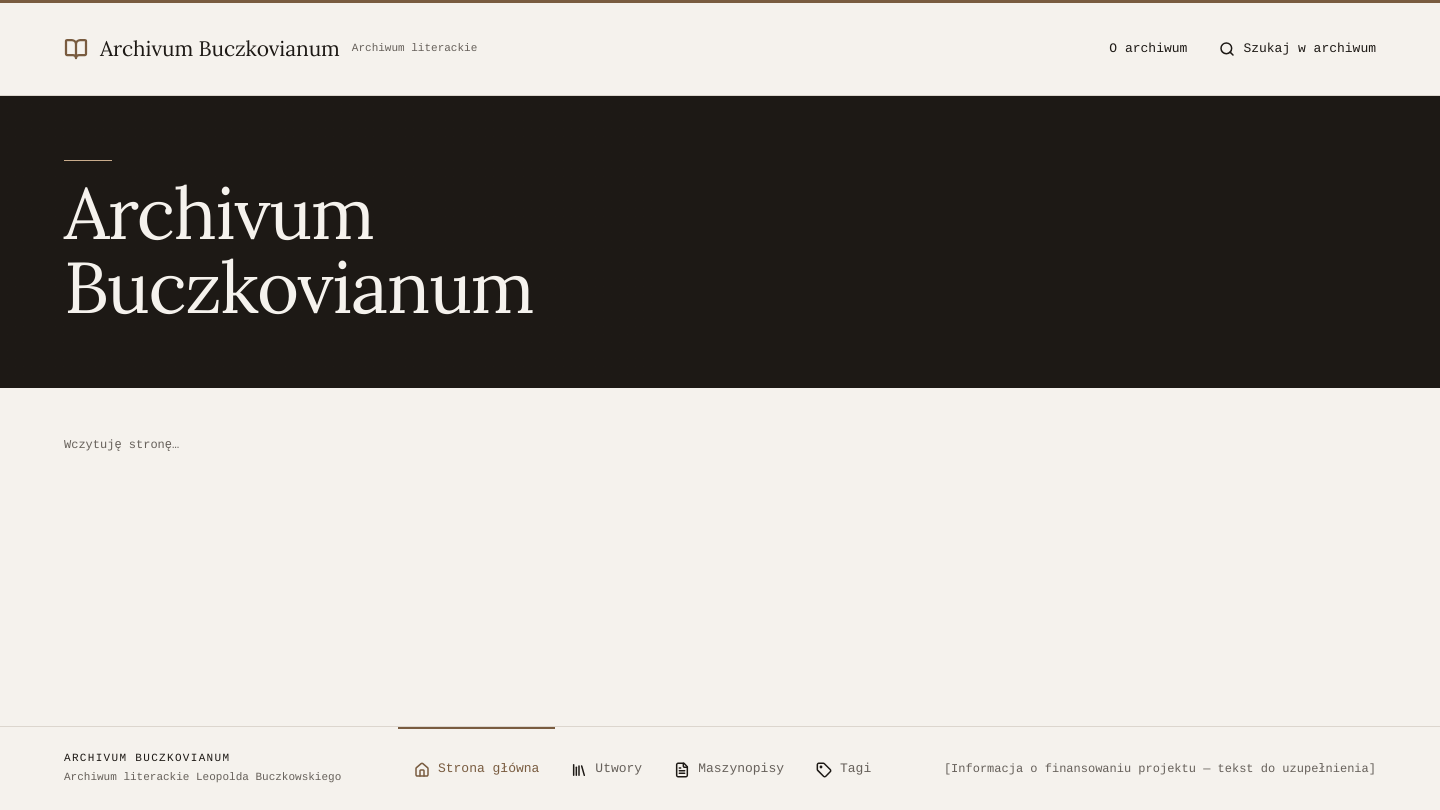
Test case: WorksPage › US-RA-18 AC1: 'Utwory' in the main navigation opens the list and is the active item
The image size is (1440, 810).
Click the link "Utwory" at (607, 769), box [571,761,642,778]
(page scrolled)
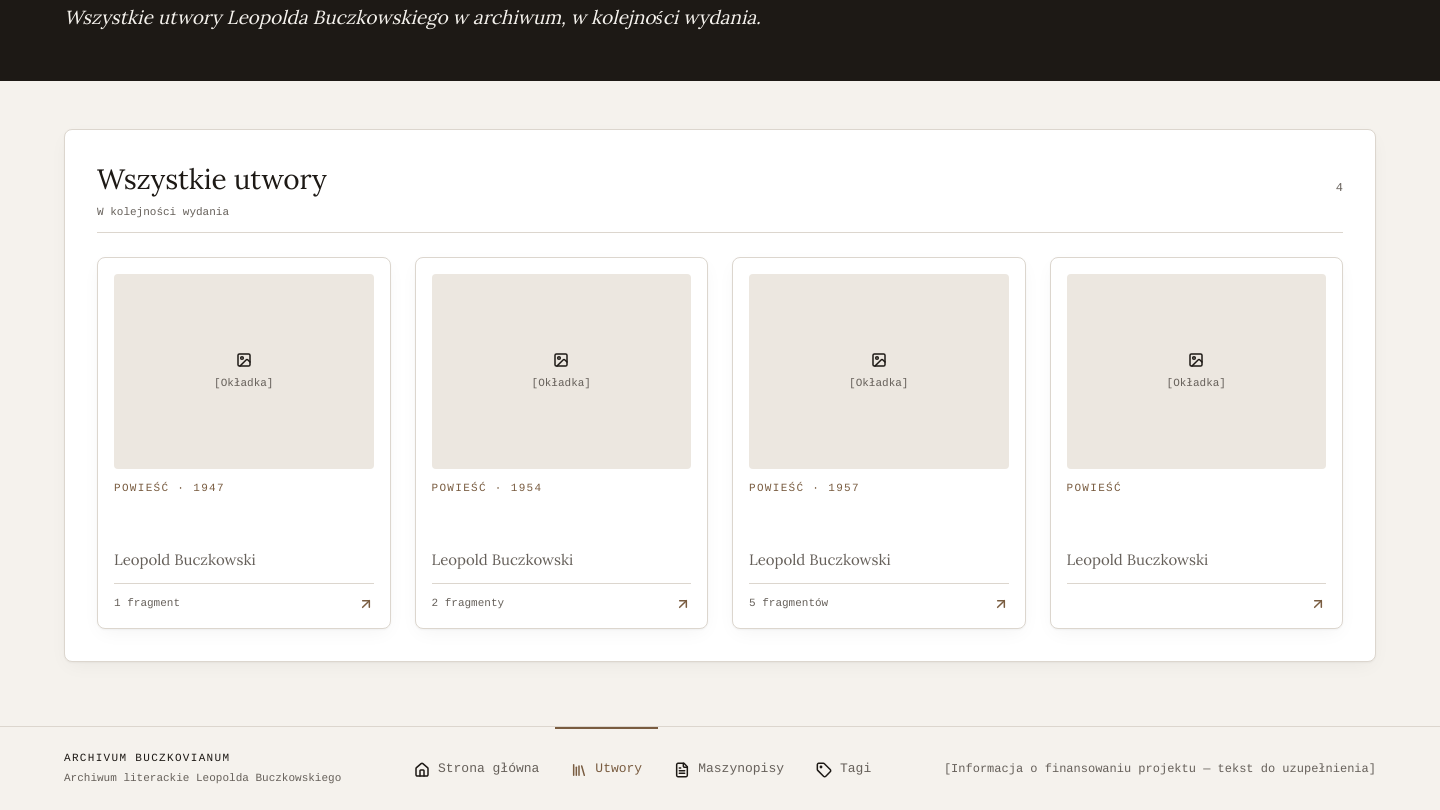
Expected: the heading "Wszystkie utwory" is shown, [97,162,327,196]
